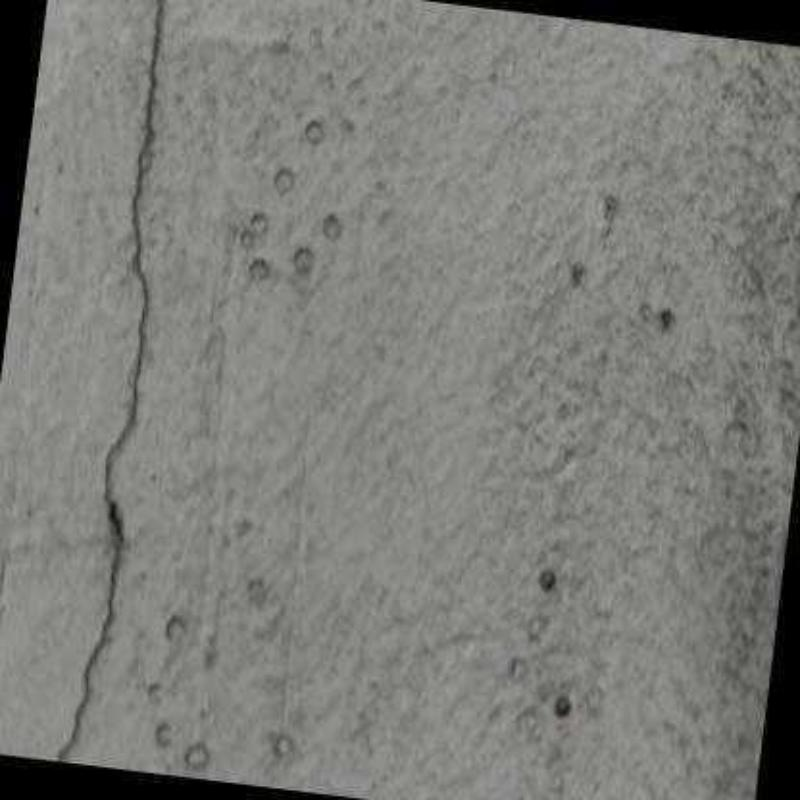pothole: (57, 0, 167, 762)
